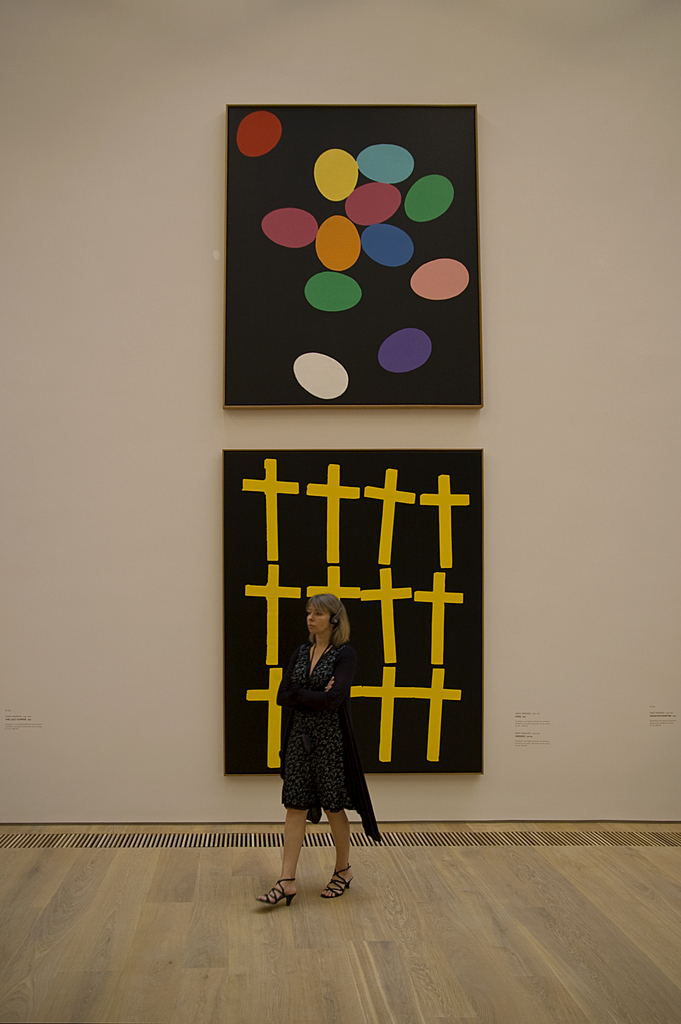Footwear: (320, 865, 358, 899)
